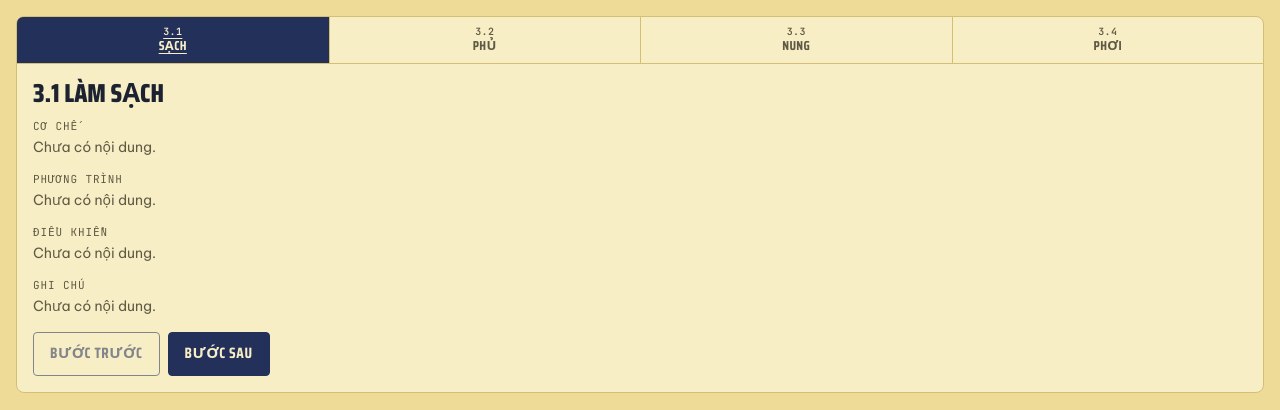
Test: Traveler with its own steps › draws one button per step and names the current step in the heading
Check: the heading "3.1 Làm sạch" is shown, box [33,72,164,113]
Click the button "3.3 Nung" at (796, 40), box [641,17,952,63]
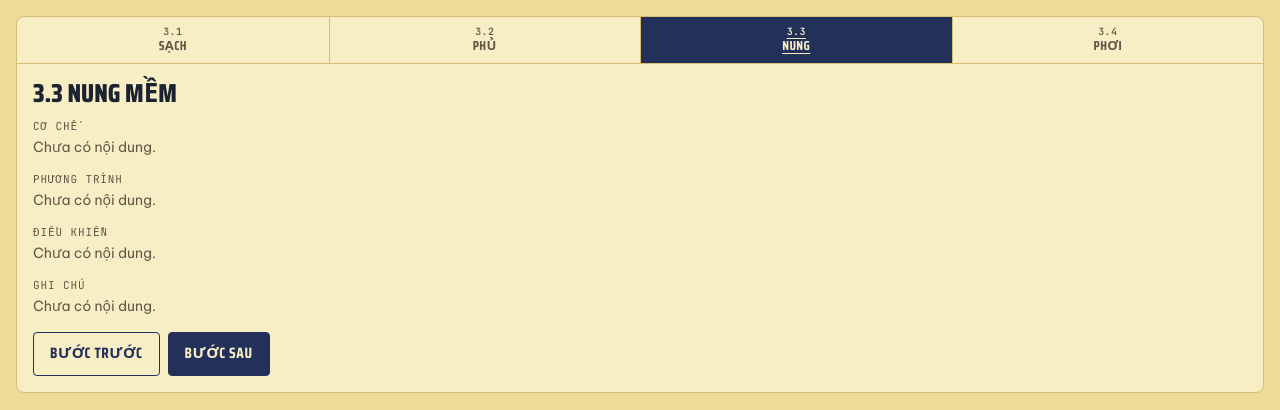
Check: the heading "3.3 Nung mềm" is shown, box [33,72,177,113]
